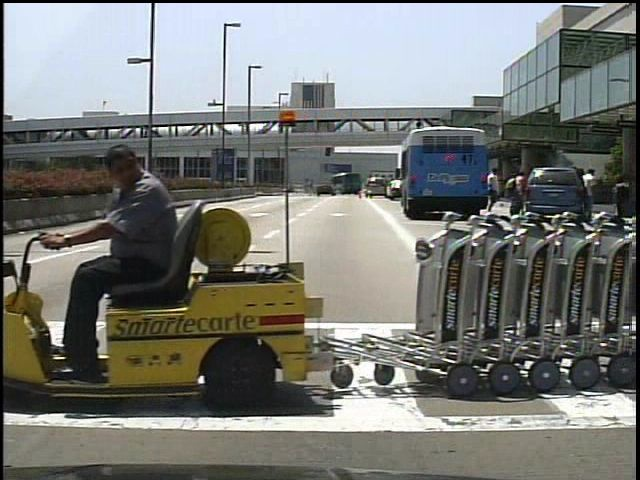person: (76, 140, 189, 379), (506, 166, 527, 219), (580, 165, 601, 214), (487, 165, 505, 217)
